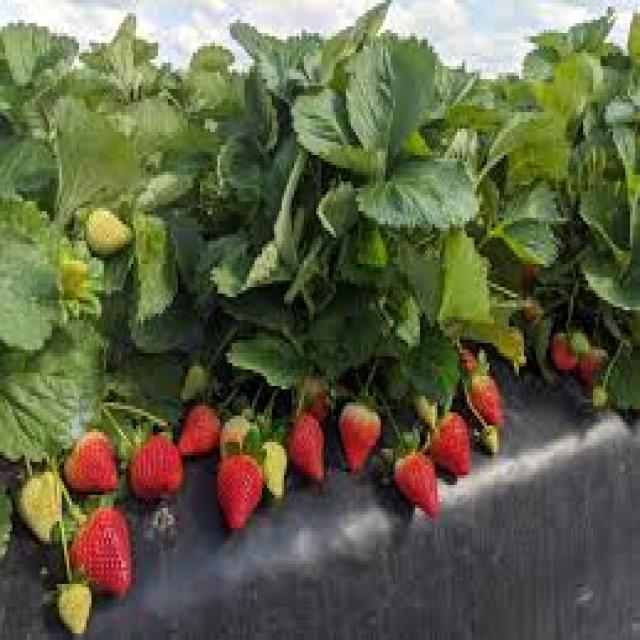strawberry: (74, 505, 132, 600), (391, 452, 457, 520), (215, 444, 262, 532), (335, 395, 384, 473), (134, 432, 185, 497)
